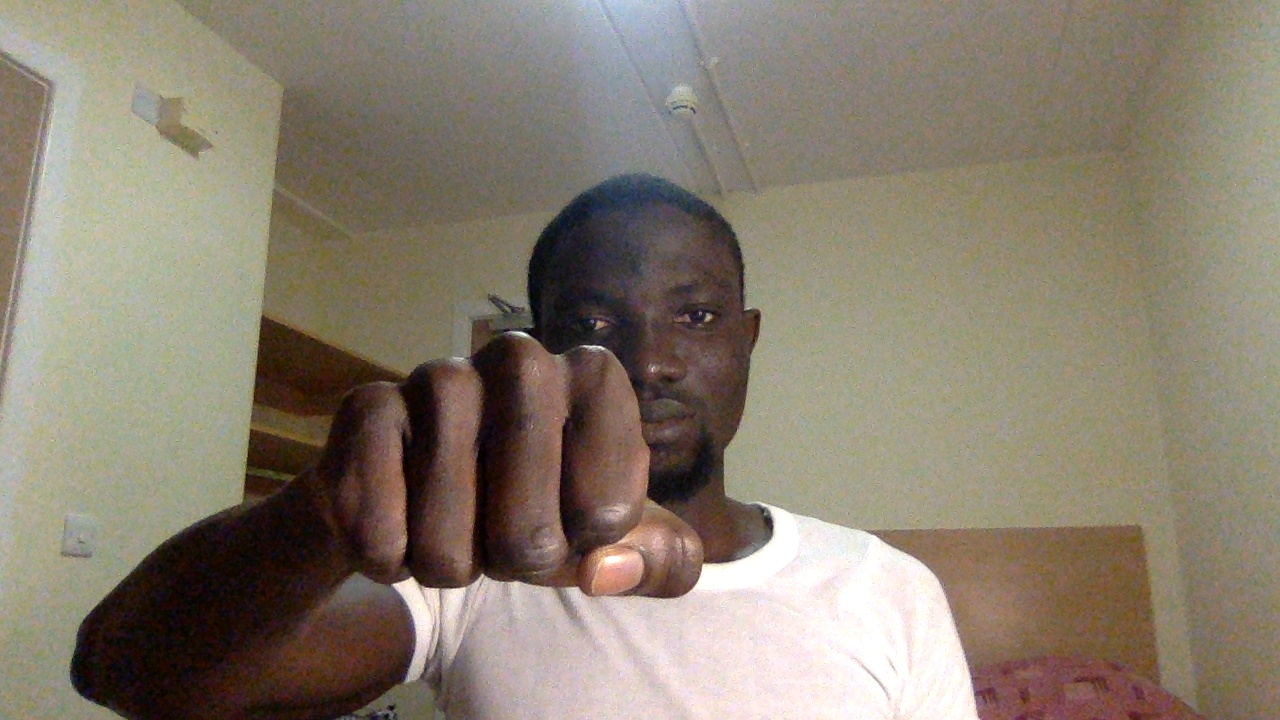Yes: (313, 321, 716, 617)
